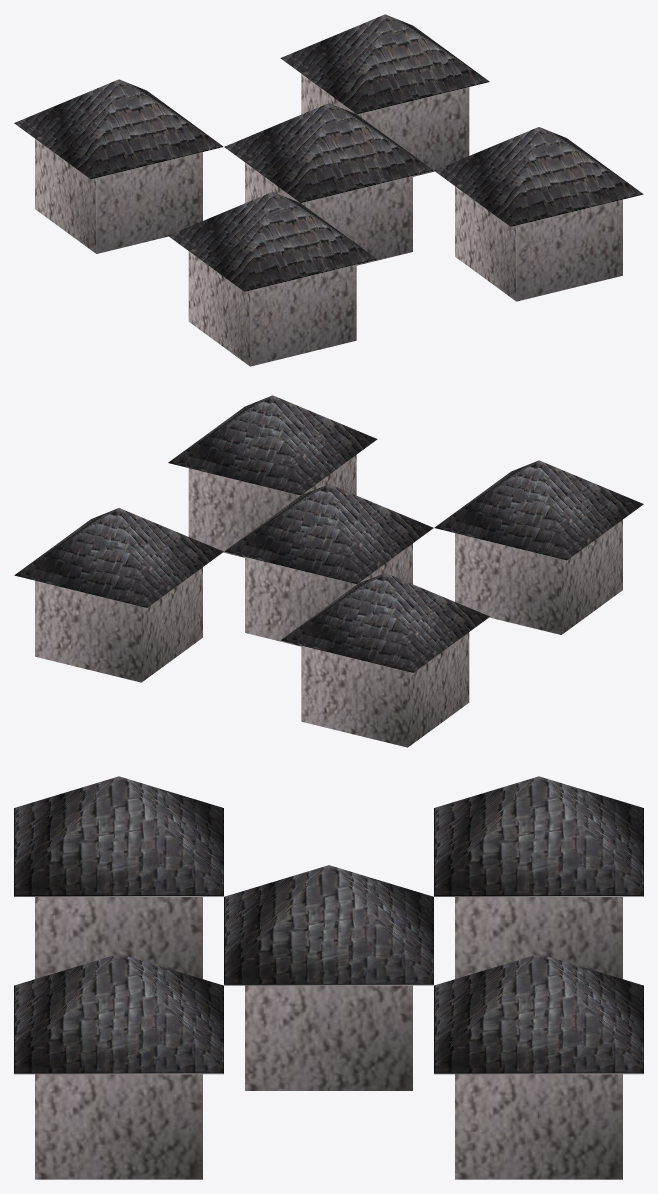
Rendered from Village.fbx.
3 renders of one model, top to bottom at view 1: azimuth 30°, elevation 25°; view 2: azimuth 150°, elevation 25°; view 3: azimuth 270°, elevation 25°, orthographic. The views are drawn at different scales.
Parts seen in each view (by area): view 1: Cube; view 2: Cube; view 3: Cube.
Part boxes in pixels (<box>): Cube: <box>14,14,643,366</box>; Cube: <box>14,395,643,747</box>; Cube: <box>14,776,643,1179</box>.
Size of the model in its own units: 3 by 1 by 3.
Materials: 1 (1 with a texture image).
